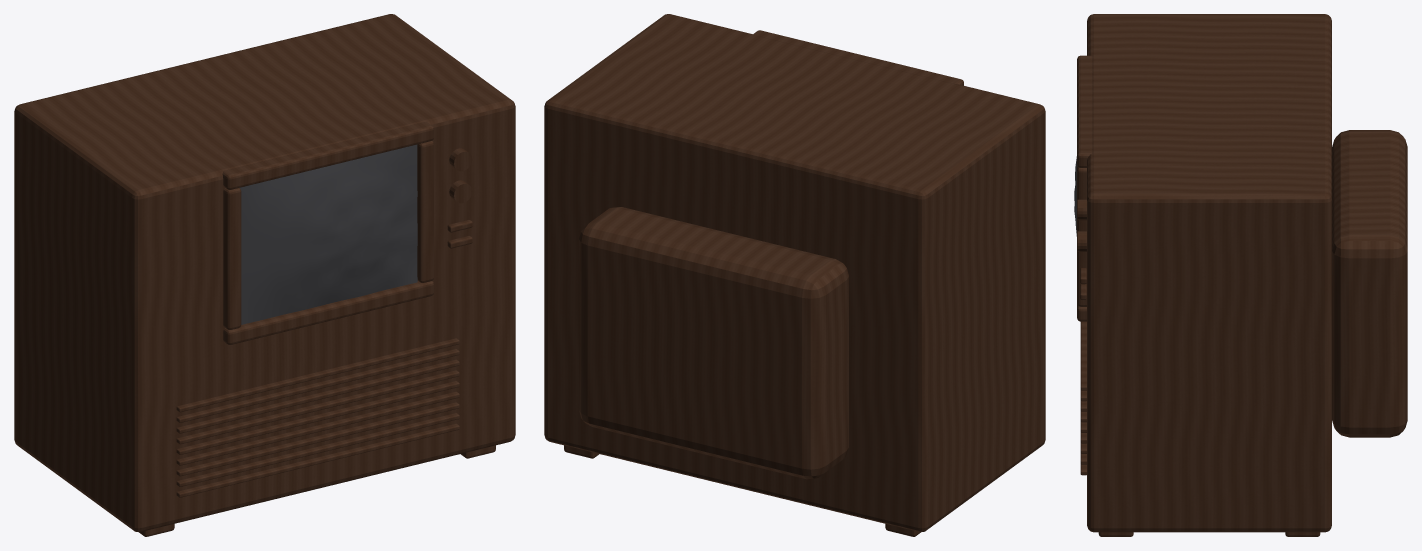
Rendered from PRP_CRTTV_Cracked.fbx.
The picture shows the model from 3 angles, left to right: view 1: azimuth 30°, elevation 25°; view 2: azimuth 150°, elevation 25°; view 3: azimuth 270°, elevation 25°; orthographic projection.
Visible parts, largest first — view 1: TV_Shell, TV_Screen; view 2: TV_Shell; view 3: TV_Shell.
Part boxes in pixels (x1,y1,x2,y2): TV_Shell: (14,14,515,536); TV_Screen: (239,144,417,324); TV_Shell: (544,14,1045,536); TV_Shell: (1077,14,1407,536).
Size of the model in its own units: 75 by 66 by 57.21.
